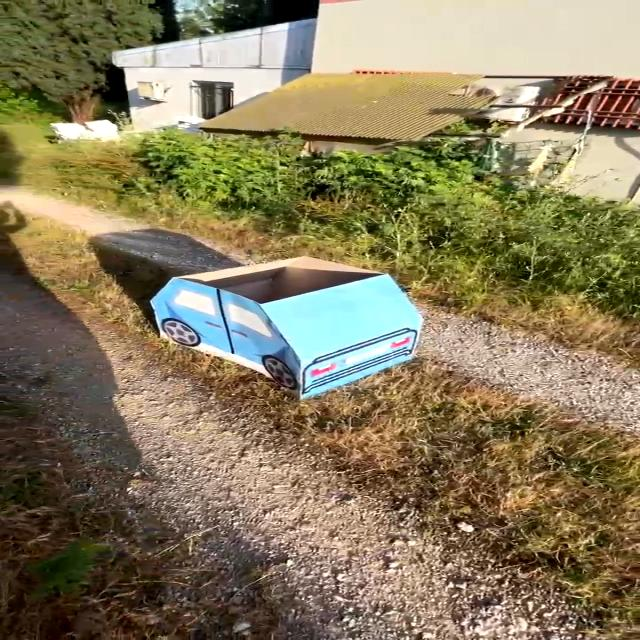blue_car: (73, 241, 471, 419)
